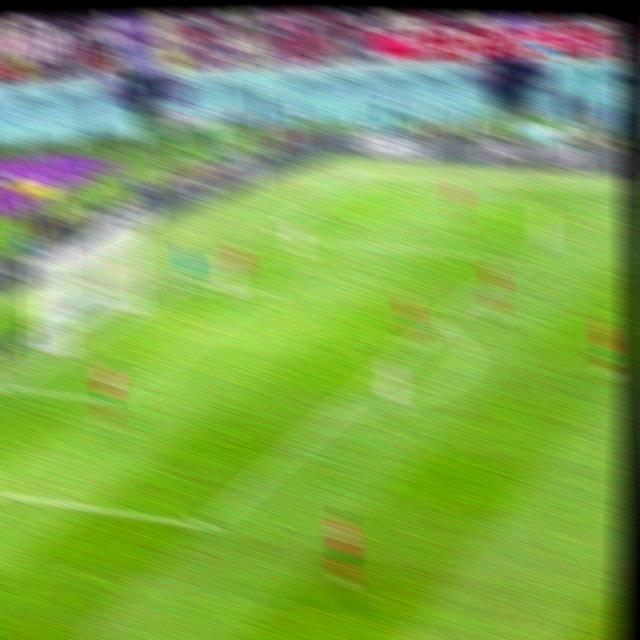bigarea_bottom_inner: (188, 508, 221, 543)
bigarea_top_inner: (505, 246, 532, 273)
bigarea_top_outter: (258, 224, 284, 244)
bottom_arc_area_intersection: (319, 401, 347, 430)
corner: (341, 175, 367, 193)
smallarea_bottom_outter: (0, 371, 25, 398)
smallarea_top_inner: (256, 280, 283, 303)
smallarea_top_outter: (174, 272, 198, 292)
top_arc_area_intersection: (428, 309, 455, 337)
